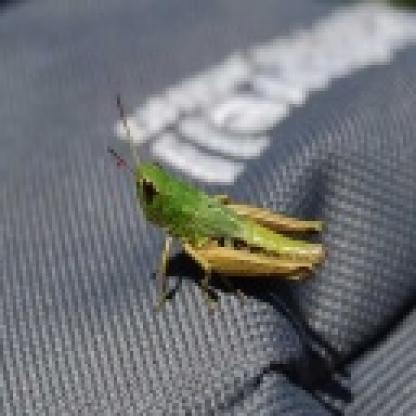grasshopper: (96, 100, 338, 298)
